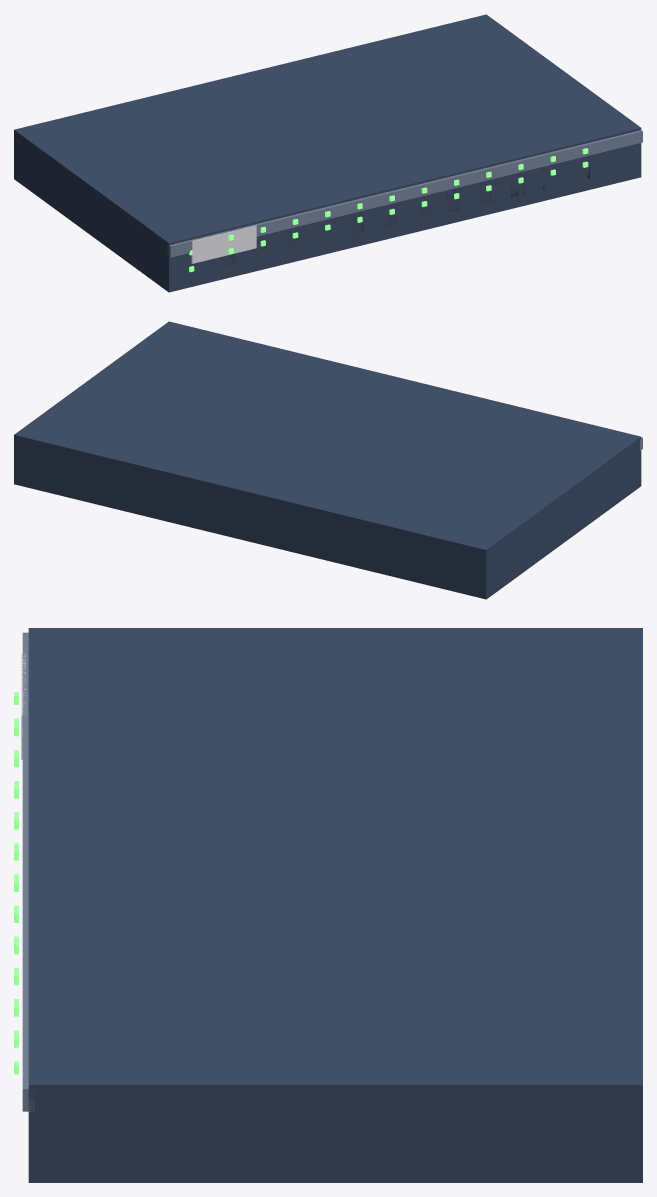
The model's file is cisco_style_switch_24port.gltf.
3 renders of one model, top to bottom at view 1: azimuth 30°, elevation 25°; view 2: azimuth 150°, elevation 25°; view 3: azimuth 270°, elevation 25°, orthographic. The views are drawn at different scales.
Visible parts, largest first — view 1: Chassis, TrimStrip, LogoPlate; view 2: Chassis; view 3: Chassis, TrimStrip.
Boxes of the visible parts, x1,y1,x2,y2 form: Chassis: (14, 14, 641, 292); TrimStrip: (167, 130, 642, 257); LogoPlate: (191, 225, 256, 263); Chassis: (14, 321, 641, 599); Chassis: (28, 628, 642, 1182); TrimStrip: (22, 632, 34, 1111).
Size of the model in its own units: 0.44 by 0.044 by 0.256.
